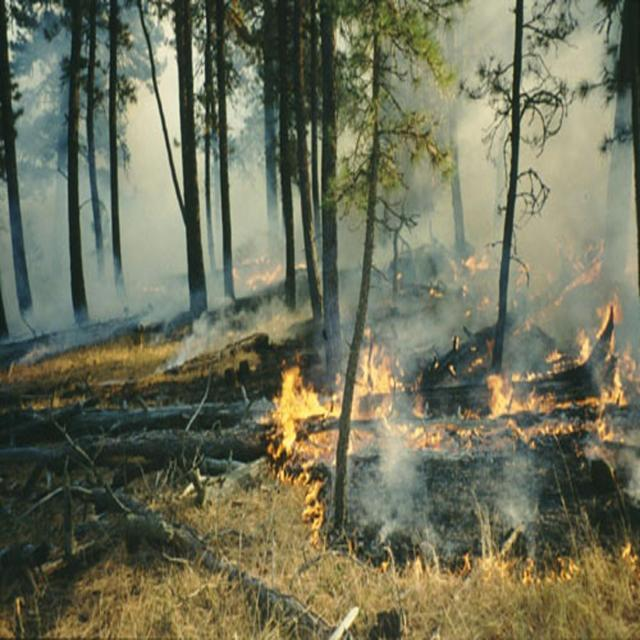Fire: (276, 348, 324, 435), (353, 351, 397, 403), (274, 424, 312, 481), (490, 375, 523, 417)
Smoke: (368, 414, 560, 564)
